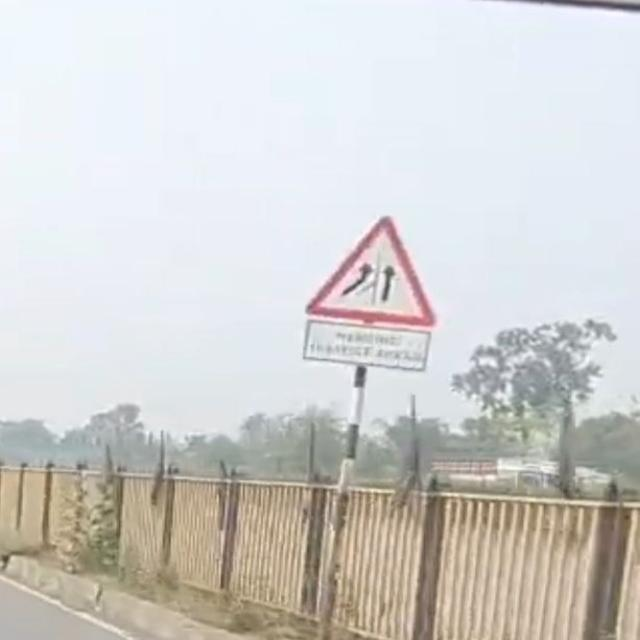merging_traffic_from_left: (307, 214, 449, 323)
